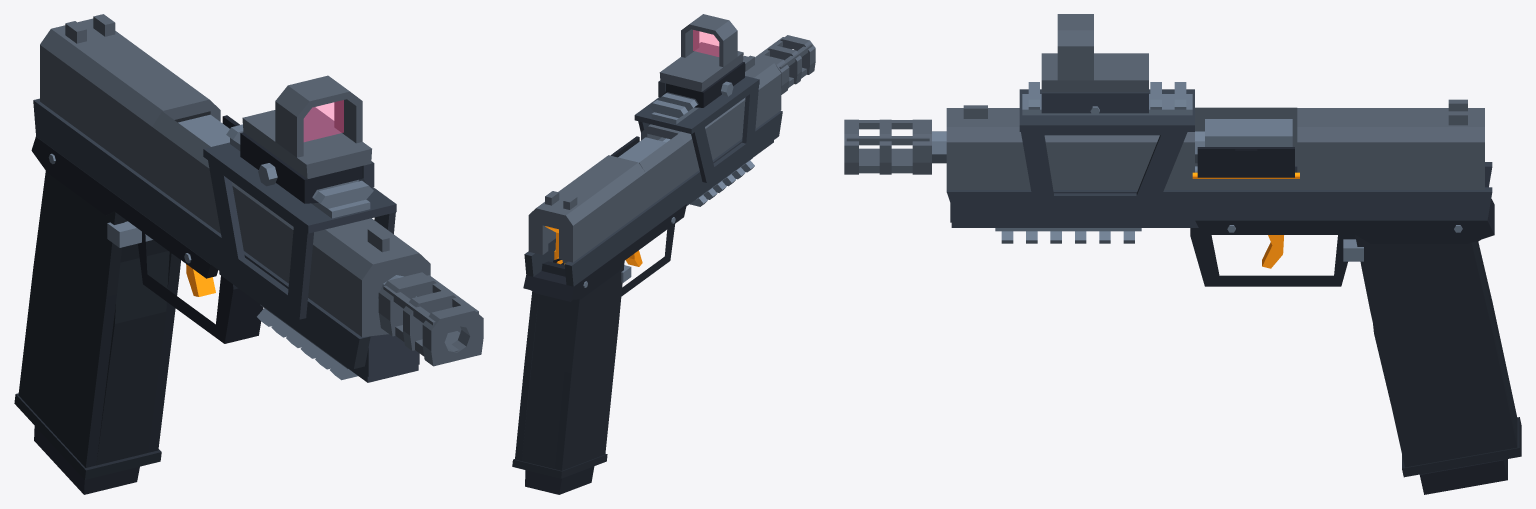
The model's file is kolmogorov_pistol.glb.
3 renders of one model, left to right at view 1: azimuth 30°, elevation 25°; view 2: azimuth 150°, elevation 25°; view 3: azimuth 270°, elevation 25°, orthographic. The views are drawn at different scales.
Visible parts, largest first — view 1: Ergonomic_HollowPolymerGrip, Slide_HollowMachinedBody, Pistol_HollowFrame, Universal_FCU_AdapterTang, Compensator_BaffledBody, RedDot_Chassis, RedDot_BeveledHood, RedDot_FixedJawBody, PicatinnyRail_Top_21_2mm, Magazine_SteelBodyAndFeedLips, PicatinnyRail_Under_21_2mm, RedDot_Lens (+3 smaller); view 2: Ergonomic_HollowPolymerGrip, Slide_HollowMachinedBody, Pistol_HollowFrame, Universal_FCU_AdapterTang, RedDot_Chassis, Compensator_BaffledBody, RedDot_BeveledHood, Magazine_SteelBodyAndFeedLips, PicatinnyRail_Top_21_2mm, RedDot_FixedJawBody, PicatinnyRail_Under_21_2mm, Chamber_Breech (+1 smaller); view 3: Slide_HollowMachinedBody, Ergonomic_HollowPolymerGrip, Pistol_HollowFrame, Universal_FCU_AdapterTang, Compensator_BaffledBody, RedDot_Chassis, PortDoor_StampedCover, RedDot_BeveledHood, Chamber_Breech, RedDot_ClampJawPlate, PicatinnyRail_Top_21_2mm, Magazine_SteelBodyAndFeedLips (+1 smaller).
Boxes of the visible parts, x1,y1,x2,y2 form: Ergonomic_HollowPolymerGrip: [14, 171, 180, 479]; Slide_HollowMachinedBody: [40, 14, 430, 336]; Pistol_HollowFrame: [33, 98, 419, 382]; Universal_FCU_AdapterTang: [31, 137, 263, 343]; Compensator_BaffledBody: [378, 272, 483, 366]; RedDot_Chassis: [242, 107, 371, 179]; RedDot_BeveledHood: [275, 75, 362, 157]; RedDot_FixedJawBody: [240, 132, 362, 203]; PicatinnyRail_Top_21_2mm: [226, 124, 373, 218]; Magazine_SteelBodyAndFeedLips: [34, 426, 139, 494]; PicatinnyRail_Under_21_2mm: [257, 304, 357, 380]; RedDot_Lens: [304, 100, 343, 141]; Ergonomic_HollowPolymerGrip: [512, 261, 624, 478]; Slide_HollowMachinedBody: [528, 55, 781, 262]; Pistol_HollowFrame: [524, 76, 782, 286]; Universal_FCU_AdapterTang: [523, 204, 686, 301]; RedDot_Chassis: [659, 42, 743, 91]; Compensator_BaffledBody: [755, 35, 815, 94]; RedDot_BeveledHood: [681, 14, 737, 67]; Magazine_SteelBodyAndFeedLips: [525, 258, 594, 494]; PicatinnyRail_Top_21_2mm: [649, 92, 698, 124]; RedDot_FixedJawBody: [666, 62, 744, 107]; PicatinnyRail_Under_21_2mm: [690, 158, 754, 206]; Chamber_Breech: [618, 137, 666, 162]; Slide_HollowMachinedBody: [946, 99, 1484, 189]; Ergonomic_HollowPolymerGrip: [1355, 235, 1521, 477]; Pistol_HollowFrame: [946, 89, 1492, 227]; Universal_FCU_AdapterTang: [1190, 199, 1494, 286]; Compensator_BaffledBody: [844, 119, 931, 174]; RedDot_Chassis: [1041, 53, 1148, 92]; PortDoor_StampedCover: [1197, 147, 1294, 177]; RedDot_BeveledHood: [1057, 14, 1093, 80]; Chamber_Breech: [1205, 119, 1292, 146]; RedDot_ClampJawPlate: [1041, 92, 1148, 113]; PicatinnyRail_Top_21_2mm: [1022, 82, 1192, 115]; Magazine_SteelBodyAndFeedLips: [1420, 459, 1507, 494].
Size of the model in its own units: 0.035 by 0.2092 by 0.278.
